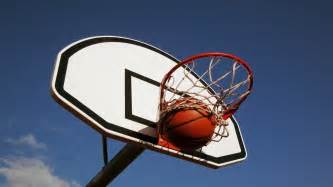basketball: (161, 98, 215, 150)
